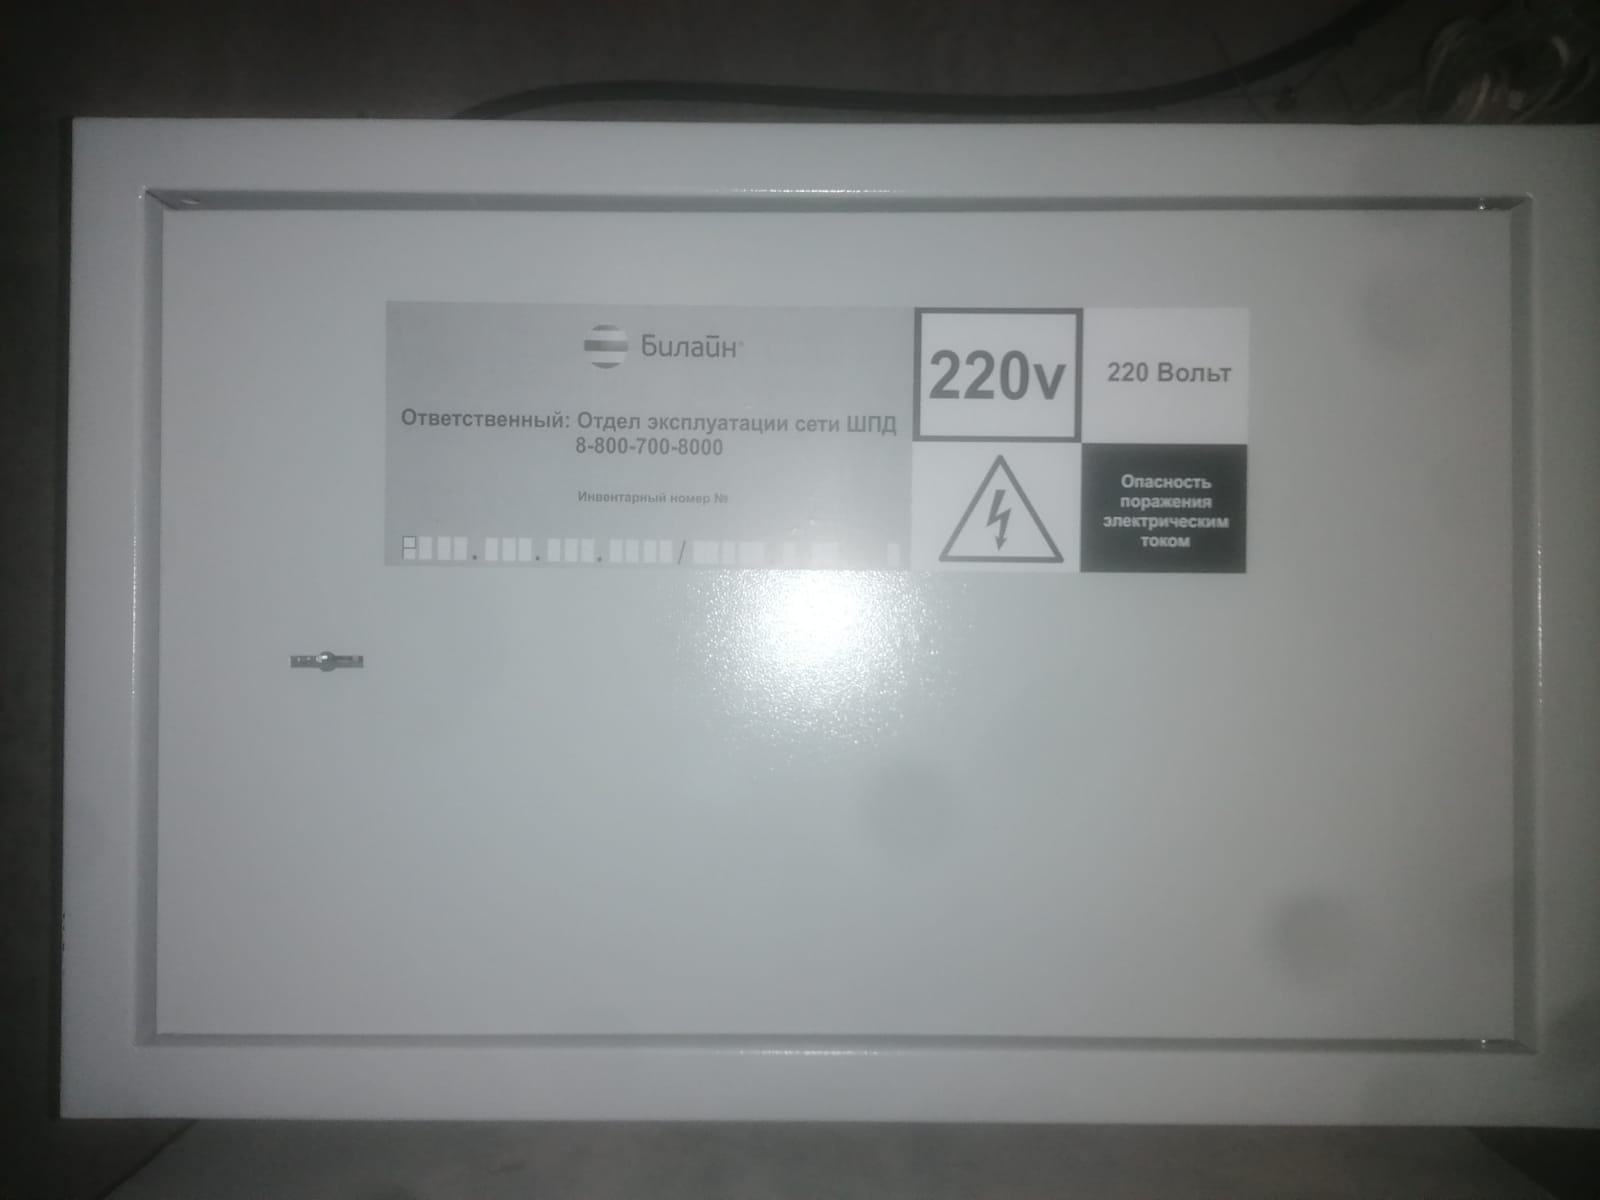shta-7m: (48, 106, 1592, 1136)
